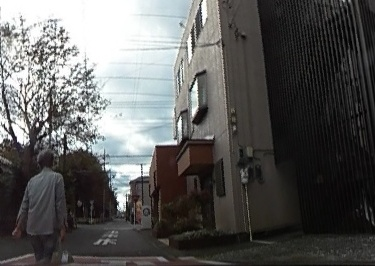person: (18, 149, 74, 266)
